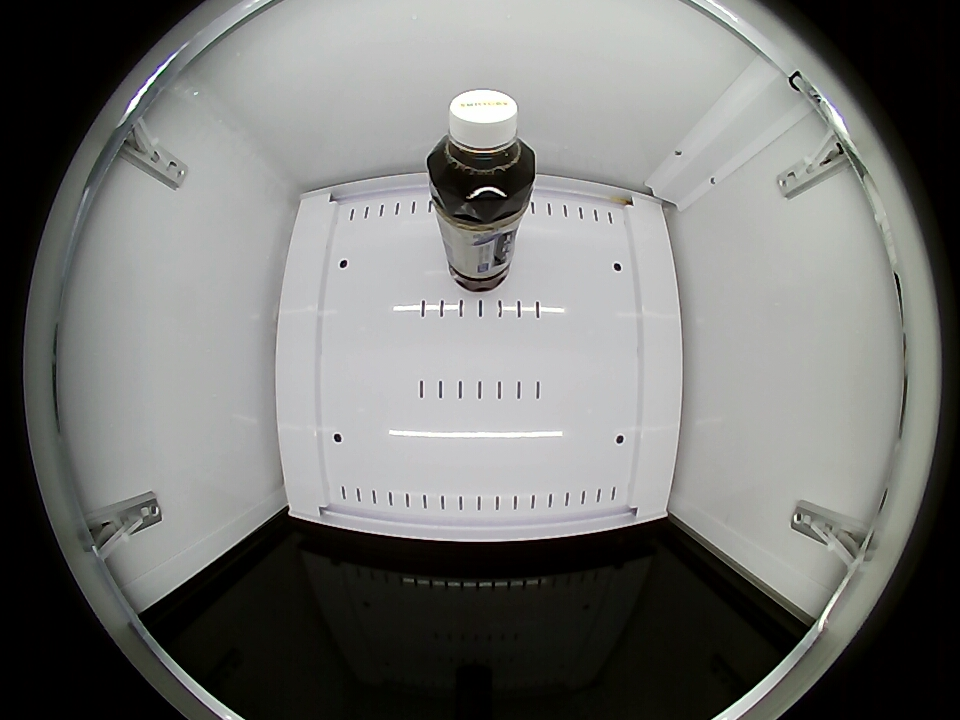wulongcha: (426, 88, 536, 208)
